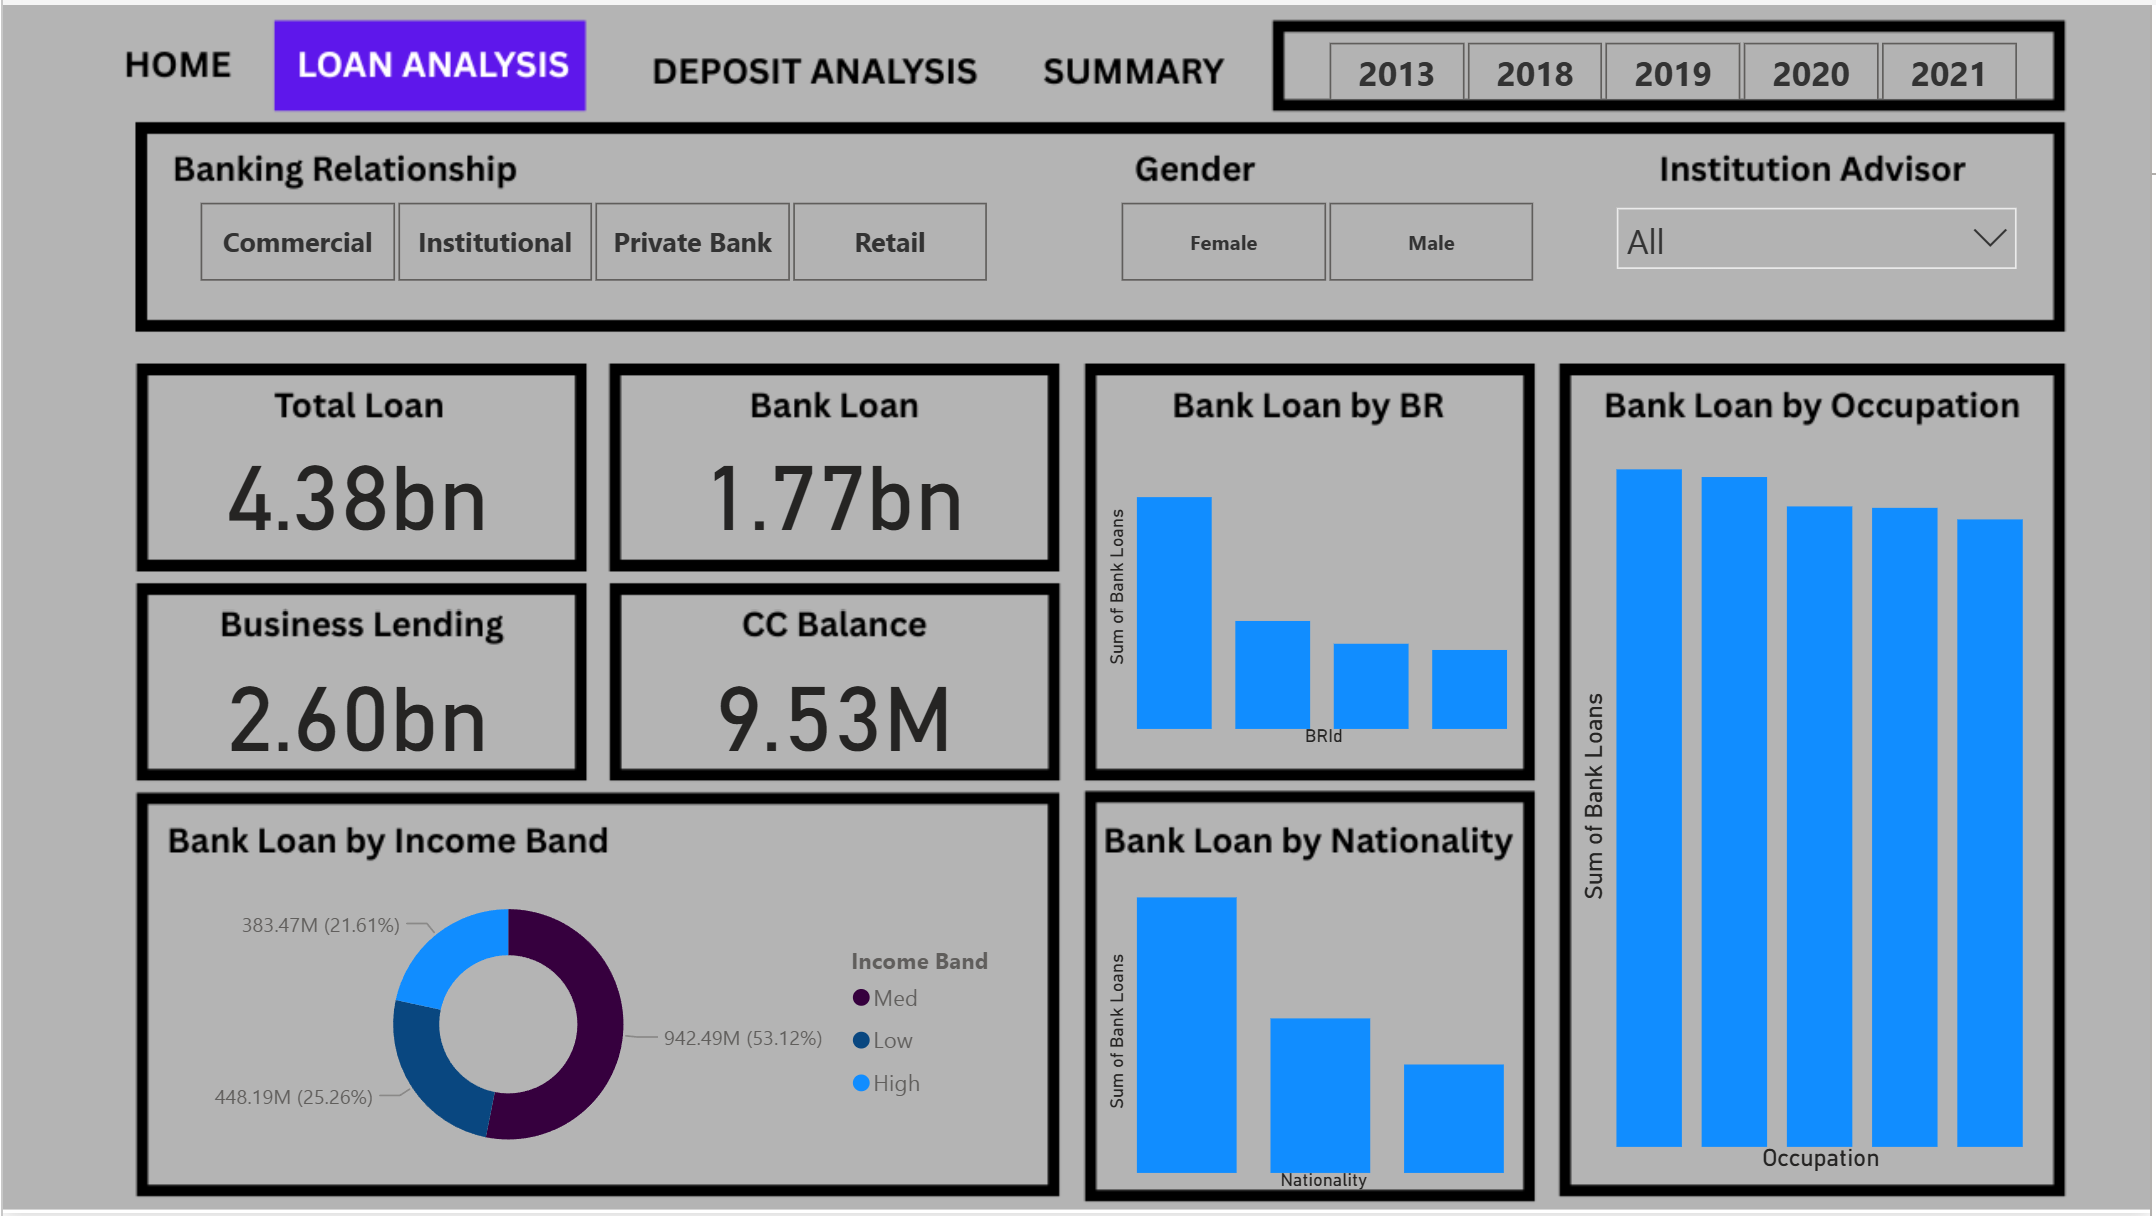

The page's visual inventory and layout, read from the dashboard file:
{"tool":"powerbi","page":{"name":"Loan Analysis","canvas":[1280,720],"ordinal":1},"visuals":[{"type":"slicer","fields":{"Values":["banking_case customer.Year of Joining"]},"box":[764.8,15.9,459.8,40.5],"z":0},{"type":"actionButton","box":[57.8,7.2,95.4,56.4],"z":1000},{"type":"actionButton","box":[383.1,7.2,205.3,56.4],"z":2000},{"type":"actionButton","box":[611.6,7.2,125.8,56.4],"z":3000},{"type":"card","fields":{"Values":["banking_case customer.Total Loan"]},"box":[105.5,248.7,212.5,78.1],"z":4000},{"type":"card","fields":{"Values":["Sum(banking_case customer.Bank Loans)"]},"box":[394.7,248.7,201,78.1],"z":5000},{"type":"card","fields":{"Values":["Sum(banking_case customer.Business Lending)"]},"box":[105.5,378.8,212.5,78.1],"z":6000},{"type":"card","fields":{"Values":["Sum(banking_case customer.Credit Card Balance)"]},"box":[394.7,378.8,201,78.1],"z":7000},{"type":"donutChart","fields":{"Category":["banking_case customer.Income Band"],"Y":["Sum(banking_case customer.Bank Loans)"]},"box":[92.4,514,519.1,186.5],"z":8000},{"type":"clusteredColumnChart","fields":{"Y":["Sum(banking_case customer.Bank Loans)"],"Category":["banking_case customer.BRId"]},"box":[653.5,248.7,250.1,198.1],"z":9000},{"type":"clusteredColumnChart","fields":{"Y":["Sum(banking_case customer.Bank Loans)"],"Category":["banking_case customer.Nationality"]},"box":[653.5,513.3,250.1,198.1],"z":10000},{"type":"clusteredColumnChart","fields":{"Y":["Sum(banking_case customer.Bank Loans)"],"Category":["banking_case customer.Occupation"]},"box":[935.6,248.6,275.5,451.9],"z":11000},{"type":"slicer","fields":{"Values":["banking_case customer.BRId"]},"box":[92.4,110.9,519.1,60.5],"z":12000},{"type":"slicer","fields":{"Values":["banking_case customer.GenderId"]},"box":[640,110.9,295.6,60.5],"z":13000},{"type":"slicer","fields":{"Values":["banking_case customer.IAId"]},"box":[952.4,110.9,258.7,60.5],"z":14000}]}

Visuals, with their boxes in screenshot pixels (x1, y1, x2, y2), scaled from the page's 1280x720 canvas onto the 2156x1216 screenshot:
slicer - banking_case customer.Year of Joining: 1288, 27, 2063, 95
actionButton: 97, 12, 258, 107
actionButton: 645, 12, 991, 107
actionButton: 1030, 12, 1242, 107
card - banking_case customer.Total Loan: 178, 420, 536, 552
card - Sum(banking_case customer.Bank Loans): 665, 420, 1003, 552
card - Sum(banking_case customer.Business Lending): 178, 640, 536, 772
card - Sum(banking_case customer.Credit Card Balance): 665, 640, 1003, 772
donutChart - banking_case customer.Income Band x Sum(banking_case customer.Bank Loans): 156, 868, 1030, 1183
clusteredColumnChart - Sum(banking_case customer.Bank Loans) x banking_case customer.BRId: 1101, 420, 1522, 755
clusteredColumnChart - Sum(banking_case customer.Bank Loans) x banking_case customer.Nationality: 1101, 867, 1522, 1201
clusteredColumnChart - Sum(banking_case customer.Bank Loans) x banking_case customer.Occupation: 1576, 420, 2040, 1183
slicer - banking_case customer.BRId: 156, 187, 1030, 289
slicer - banking_case customer.GenderId: 1078, 187, 1576, 289
slicer - banking_case customer.IAId: 1604, 187, 2040, 289
